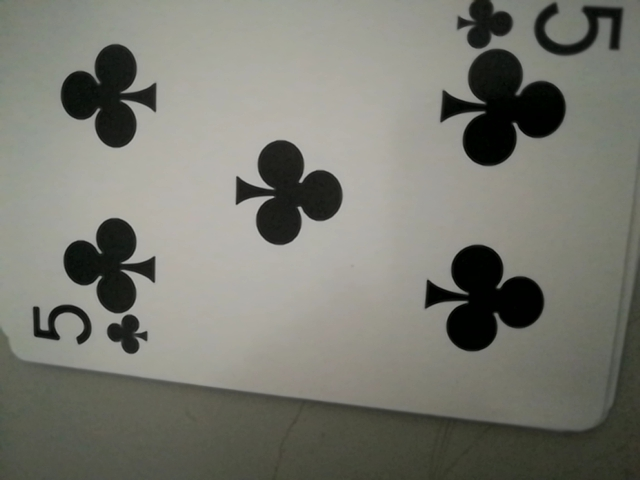mh 5: (457, 0, 622, 56), (22, 300, 154, 364)
